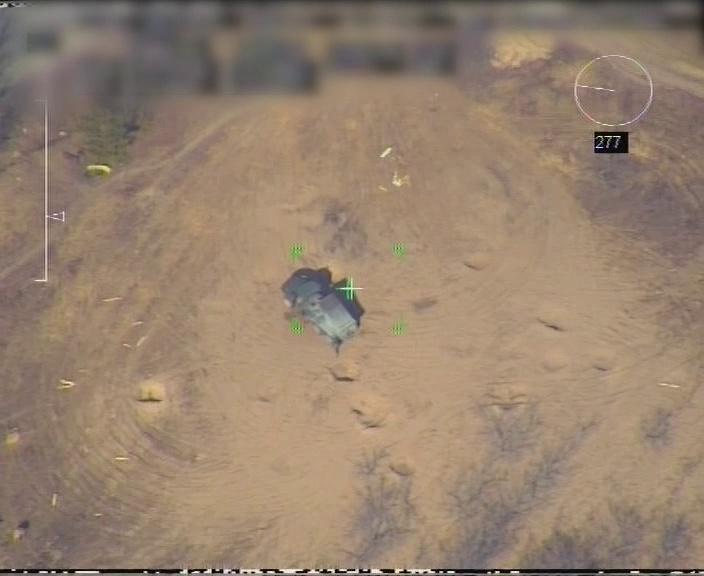rszo: (282, 274, 358, 340)
